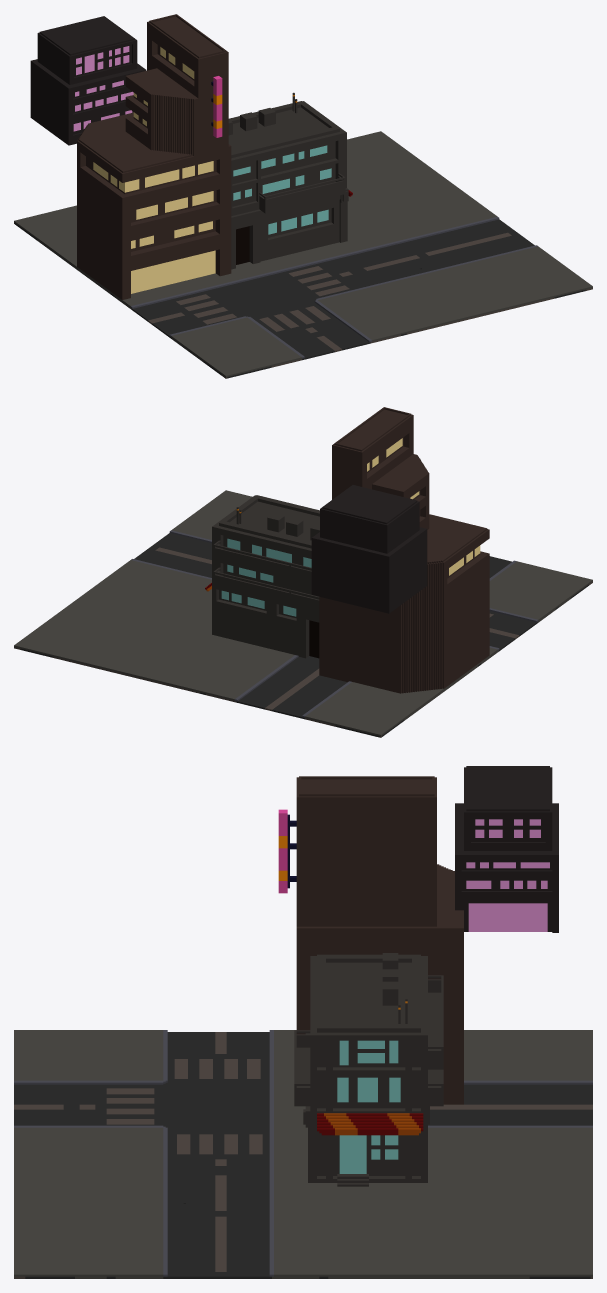
File: Street3.obj
3 views of the same model, one above another, from view 1: azimuth 30°, elevation 25°; view 2: azimuth 150°, elevation 25°; view 3: azimuth 270°, elevation 25° (orthographic). The views are drawn at different scales.
Bounding box in the file's own units: 25.6 × 15.1 × 25.6.
Materials: 1 (1 with a texture image).
